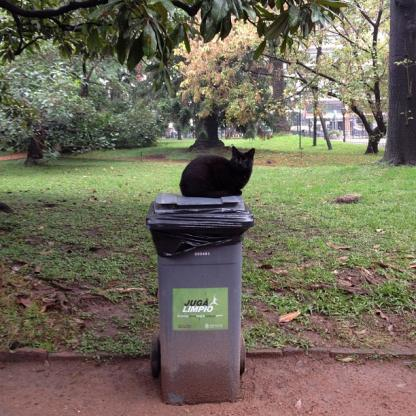Target: (178, 141, 260, 198)
